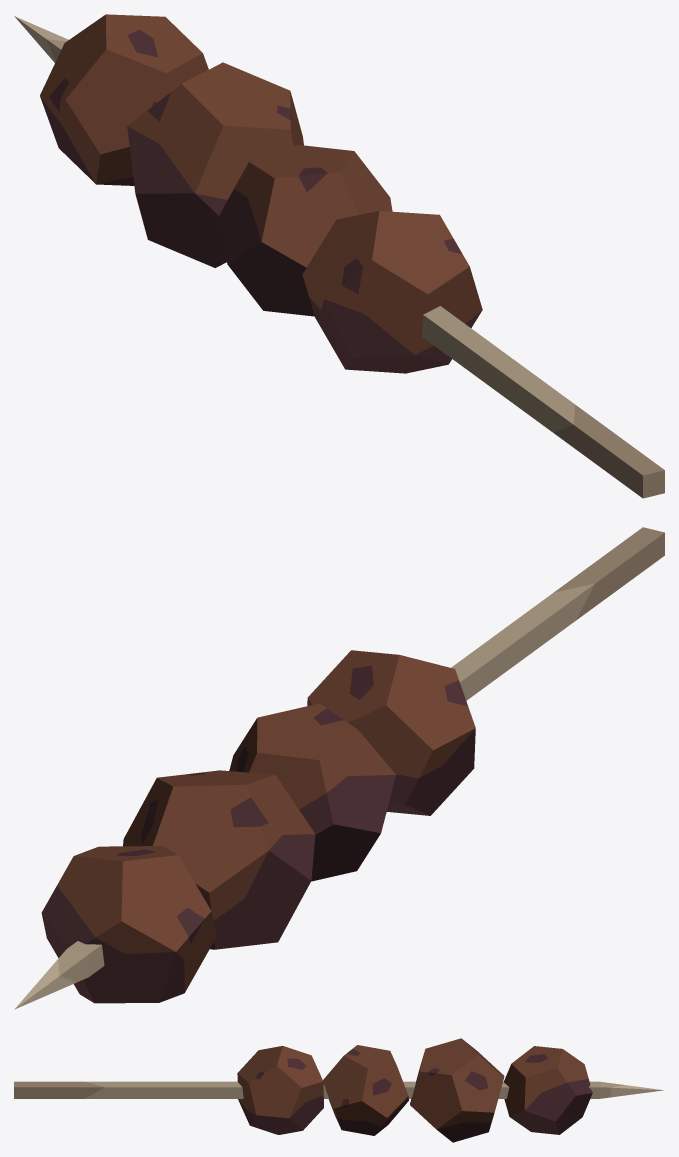
Rendered from SM_Prop_Food_Sticks_02.fbx.
3 views of the same model, one above another, from view 1: azimuth 30°, elevation 25°; view 2: azimuth 150°, elevation 25°; view 3: azimuth 270°, elevation 25° (orthographic). The views are drawn at different scales.
Visible parts, largest first — view 1: SM_Prop_Food_Sticks_02; view 2: SM_Prop_Food_Sticks_02; view 3: SM_Prop_Food_Sticks_02.
Part boxes in pixels (box(x1,y1,x2,y2)): SM_Prop_Food_Sticks_02: box(14, 14, 664, 498); SM_Prop_Food_Sticks_02: box(14, 527, 664, 1009); SM_Prop_Food_Sticks_02: box(14, 1038, 663, 1142).
Bounding box in the file's own units: 9.17 × 8.52 × 57.18.
